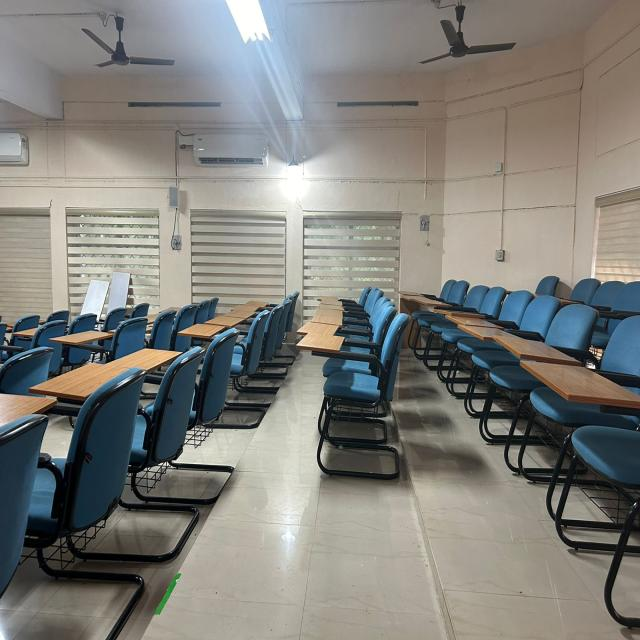chair ahead at: (24, 326, 244, 571), (304, 282, 404, 494)
